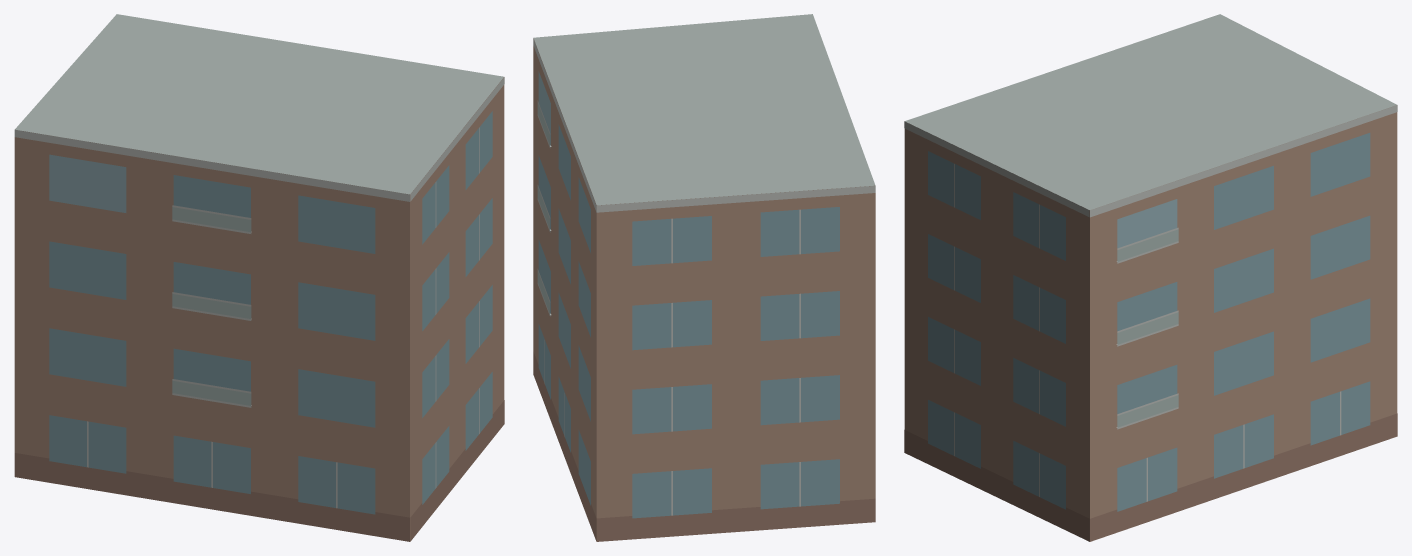
Rendered from survey-upis-32958670.glb.
3 renders of one model, left to right at view 1: azimuth 30°, elevation 25°; view 2: azimuth 150°, elevation 25°; view 3: azimuth 270°, elevation 25°, orthographic. The views are drawn at different scales.
Parts seen in each view (by area): view 1: survey-upis-32958670.tmp; view 2: survey-upis-32958670.tmp; view 3: survey-upis-32958670.tmp.
Boxes of the visible parts, x1,y1,x2,y2 form: survey-upis-32958670.tmp: (14,14,504,541); survey-upis-32958670.tmp: (533,14,875,541); survey-upis-32958670.tmp: (904,14,1397,541).
Bounding box in the file's own units: 14.36 × 11.3 × 15.24.
